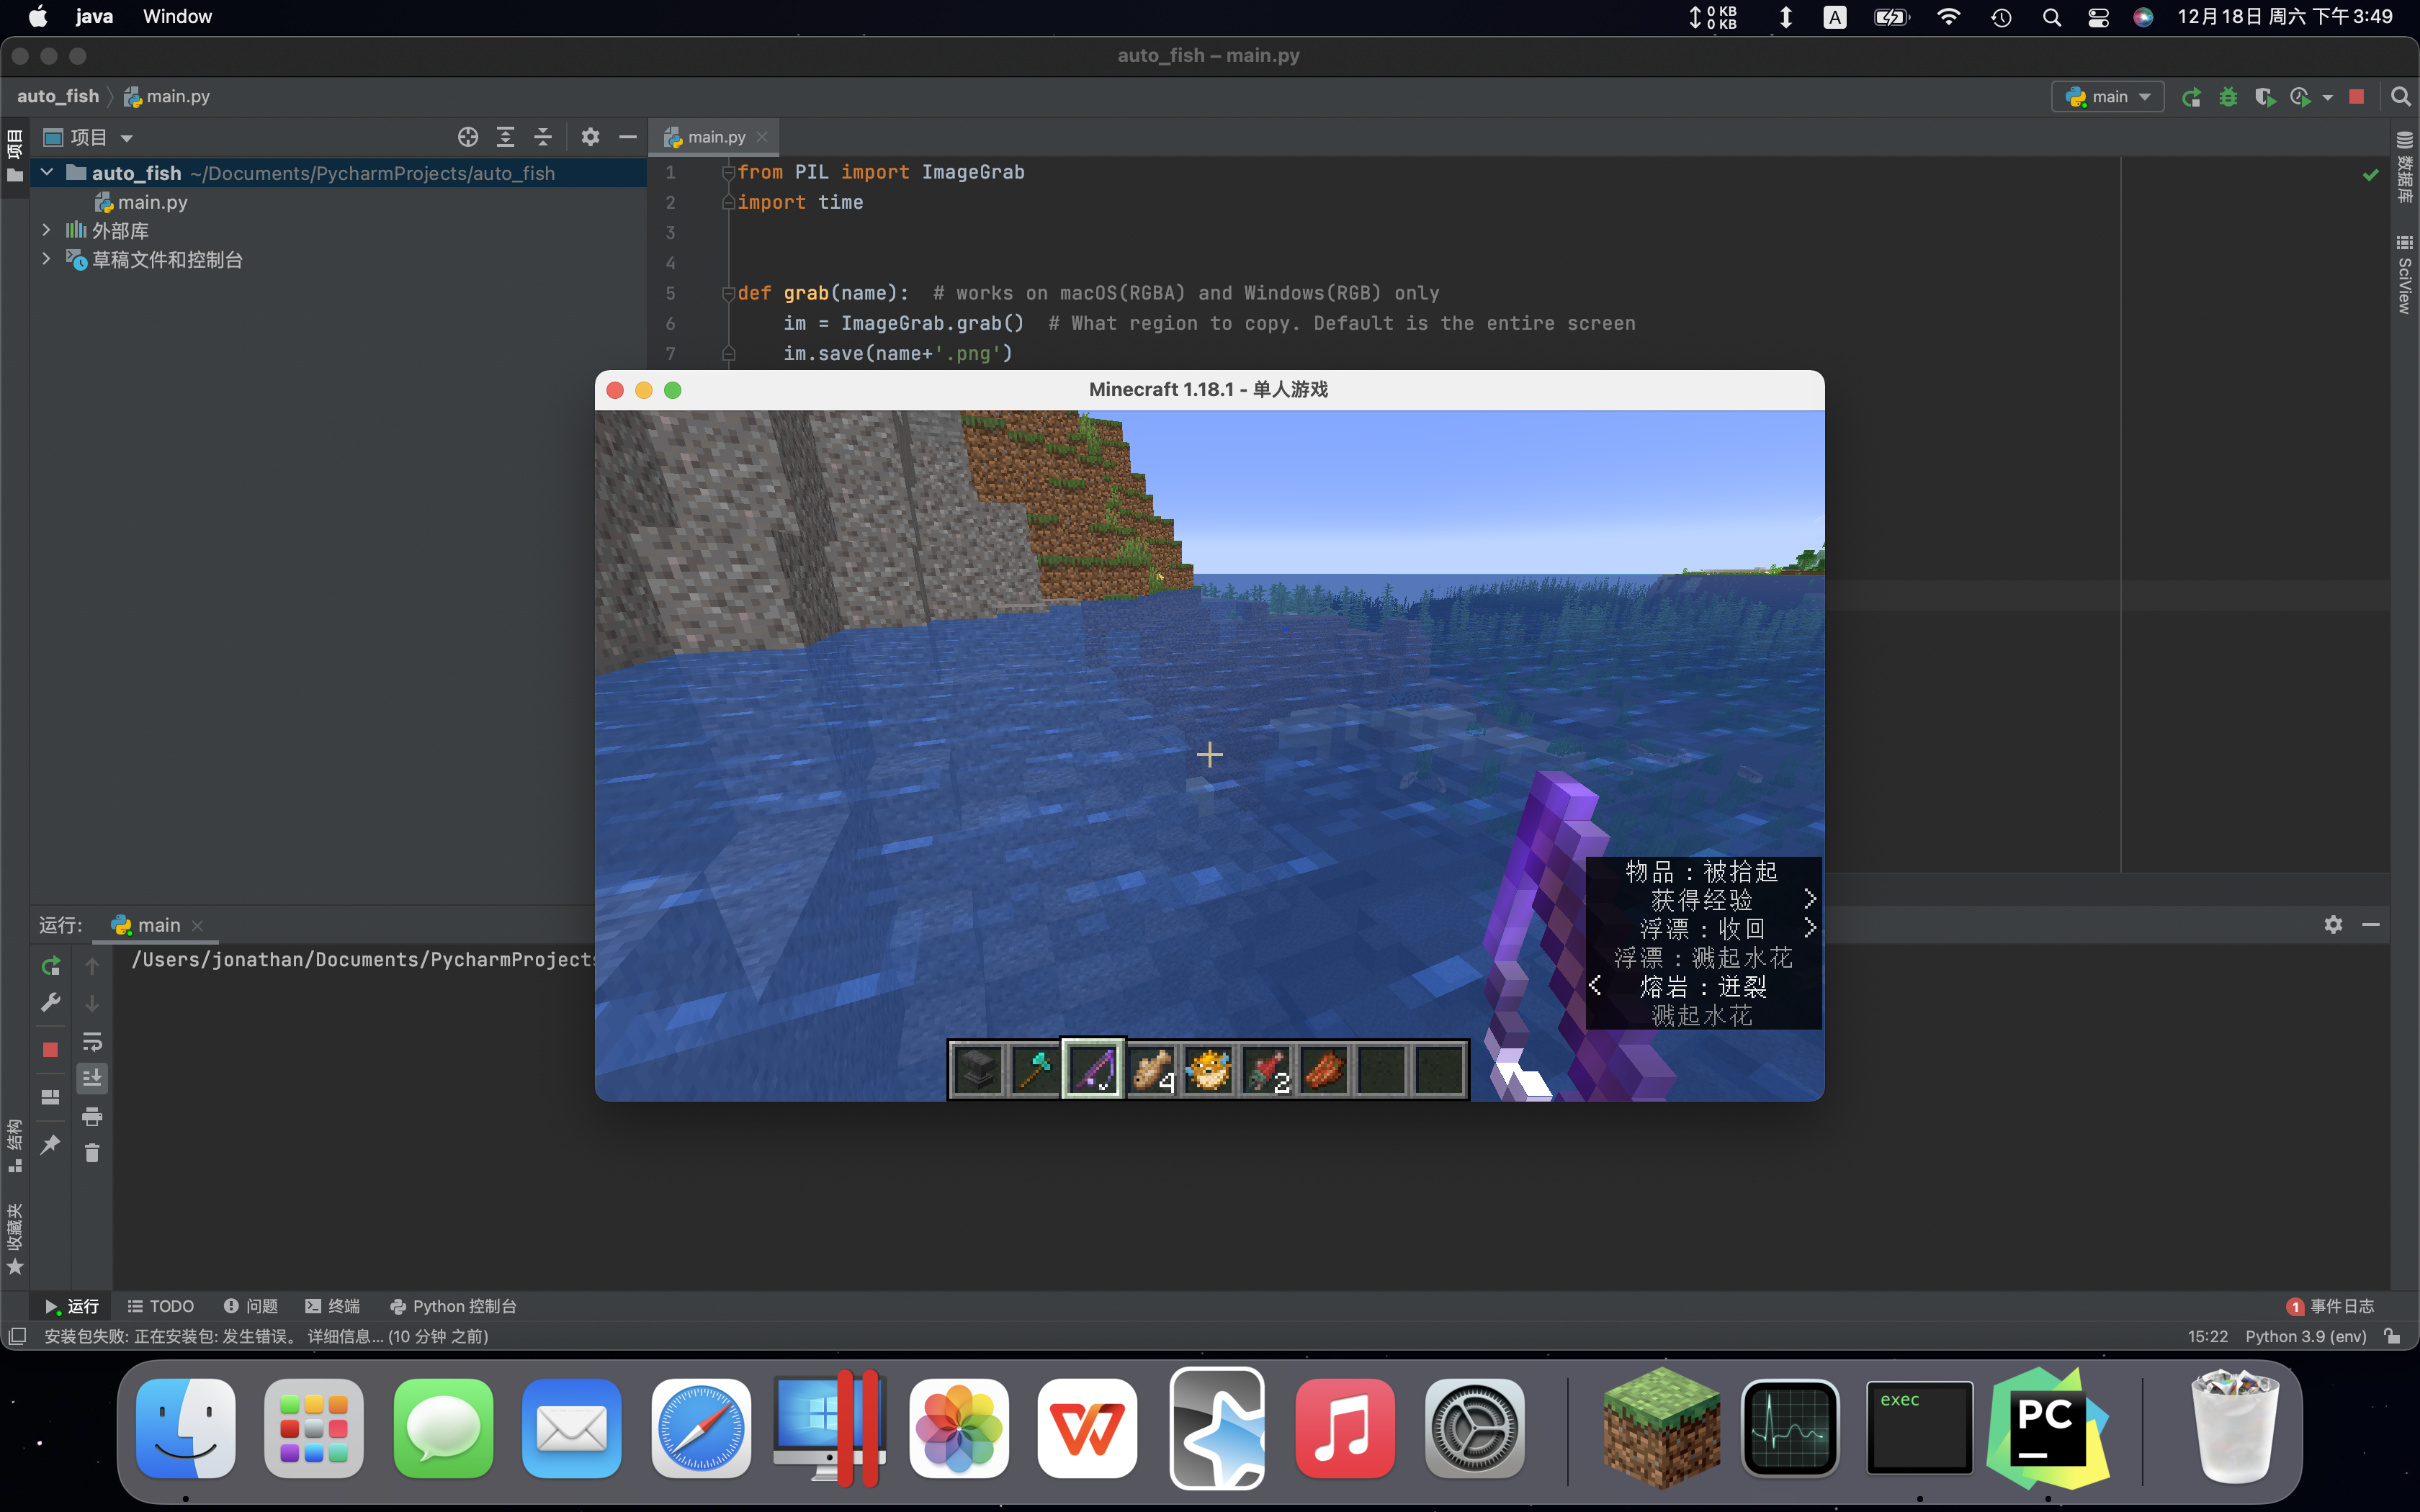inf: (1585, 859, 1821, 1029)
